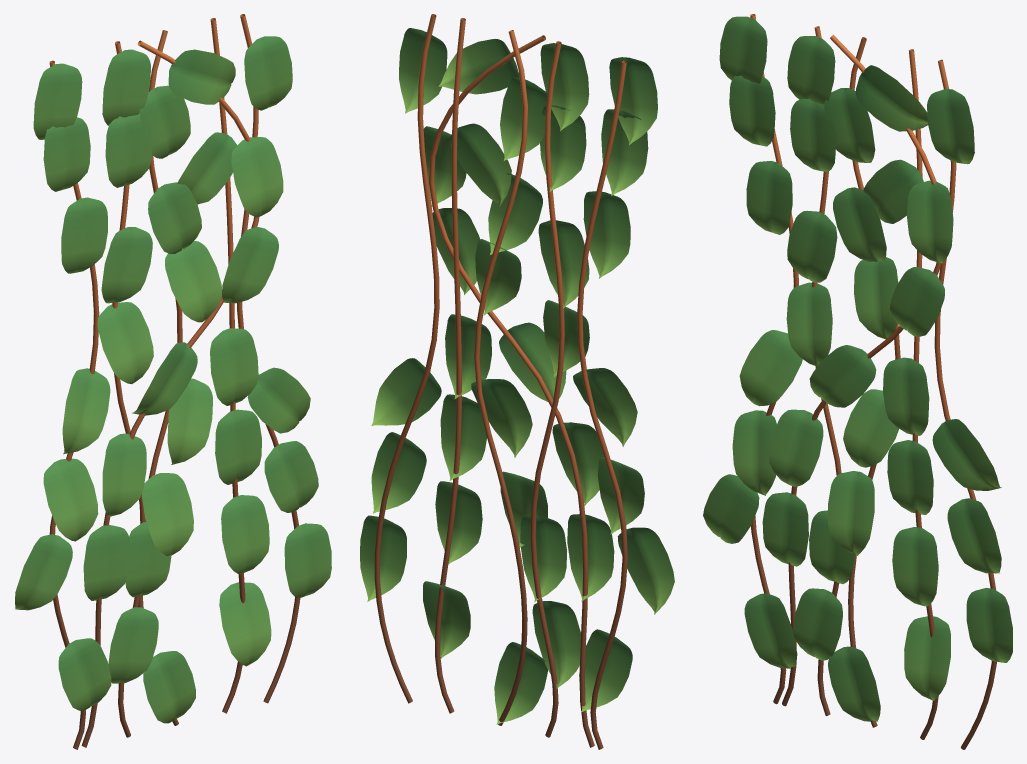
File: Ivy.fbx
3 views of the same model, side by side, from view 1: azimuth 30°, elevation 25°; view 2: azimuth 150°, elevation 25°; view 3: azimuth 330°, elevation 25° (orthographic).
Parts seen in each view (by area): view 1: Ivy; view 2: Ivy; view 3: Ivy.
Boxes of the visible parts, left/top/right/bottom form: Ivy: left=15, top=14, right=331, bottom=749; Ivy: left=360, top=14, right=674, bottom=749; Ivy: left=703, top=14, right=1012, bottom=749.
Bounding box in the file's own units: 0.7456 × 1.58 × 0.1222.
